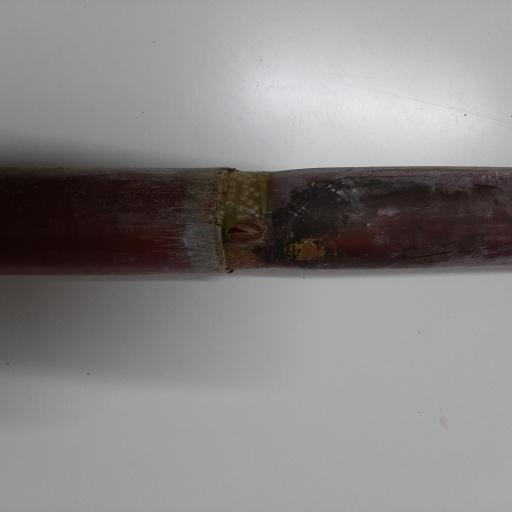Bud: (225, 222, 263, 245)
